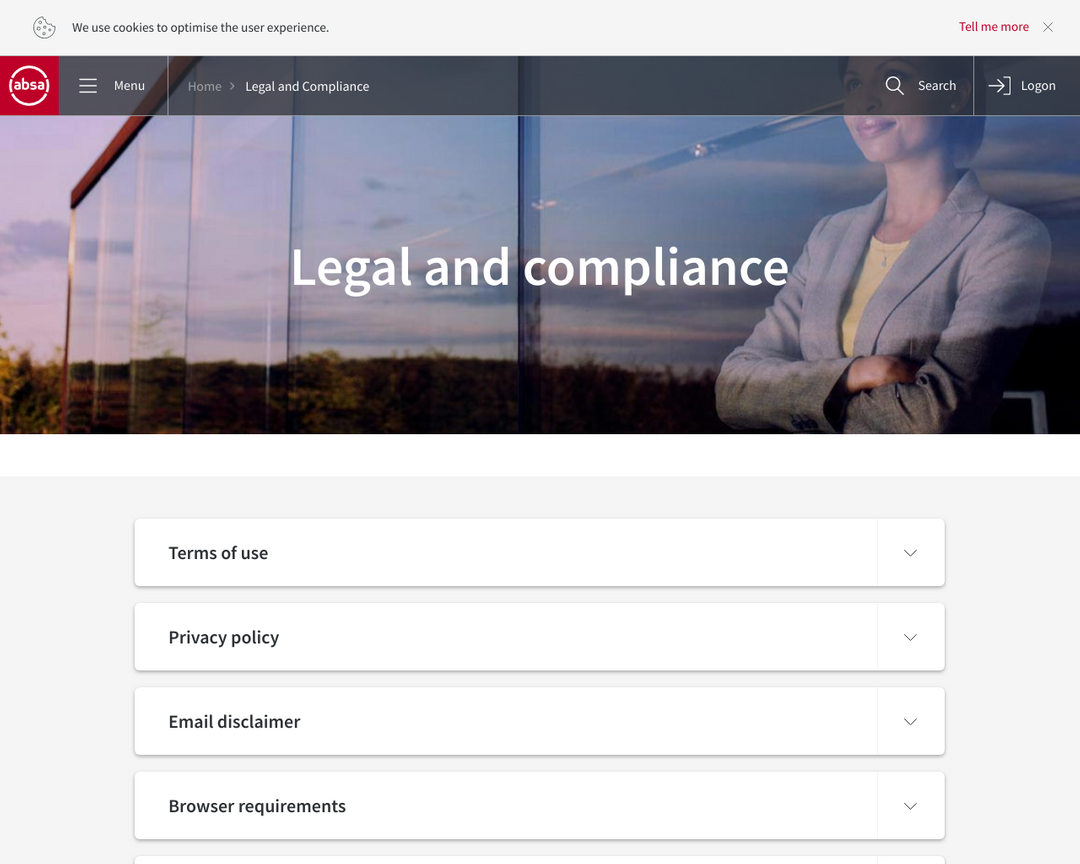ABSA: (6, 63, 52, 109)
